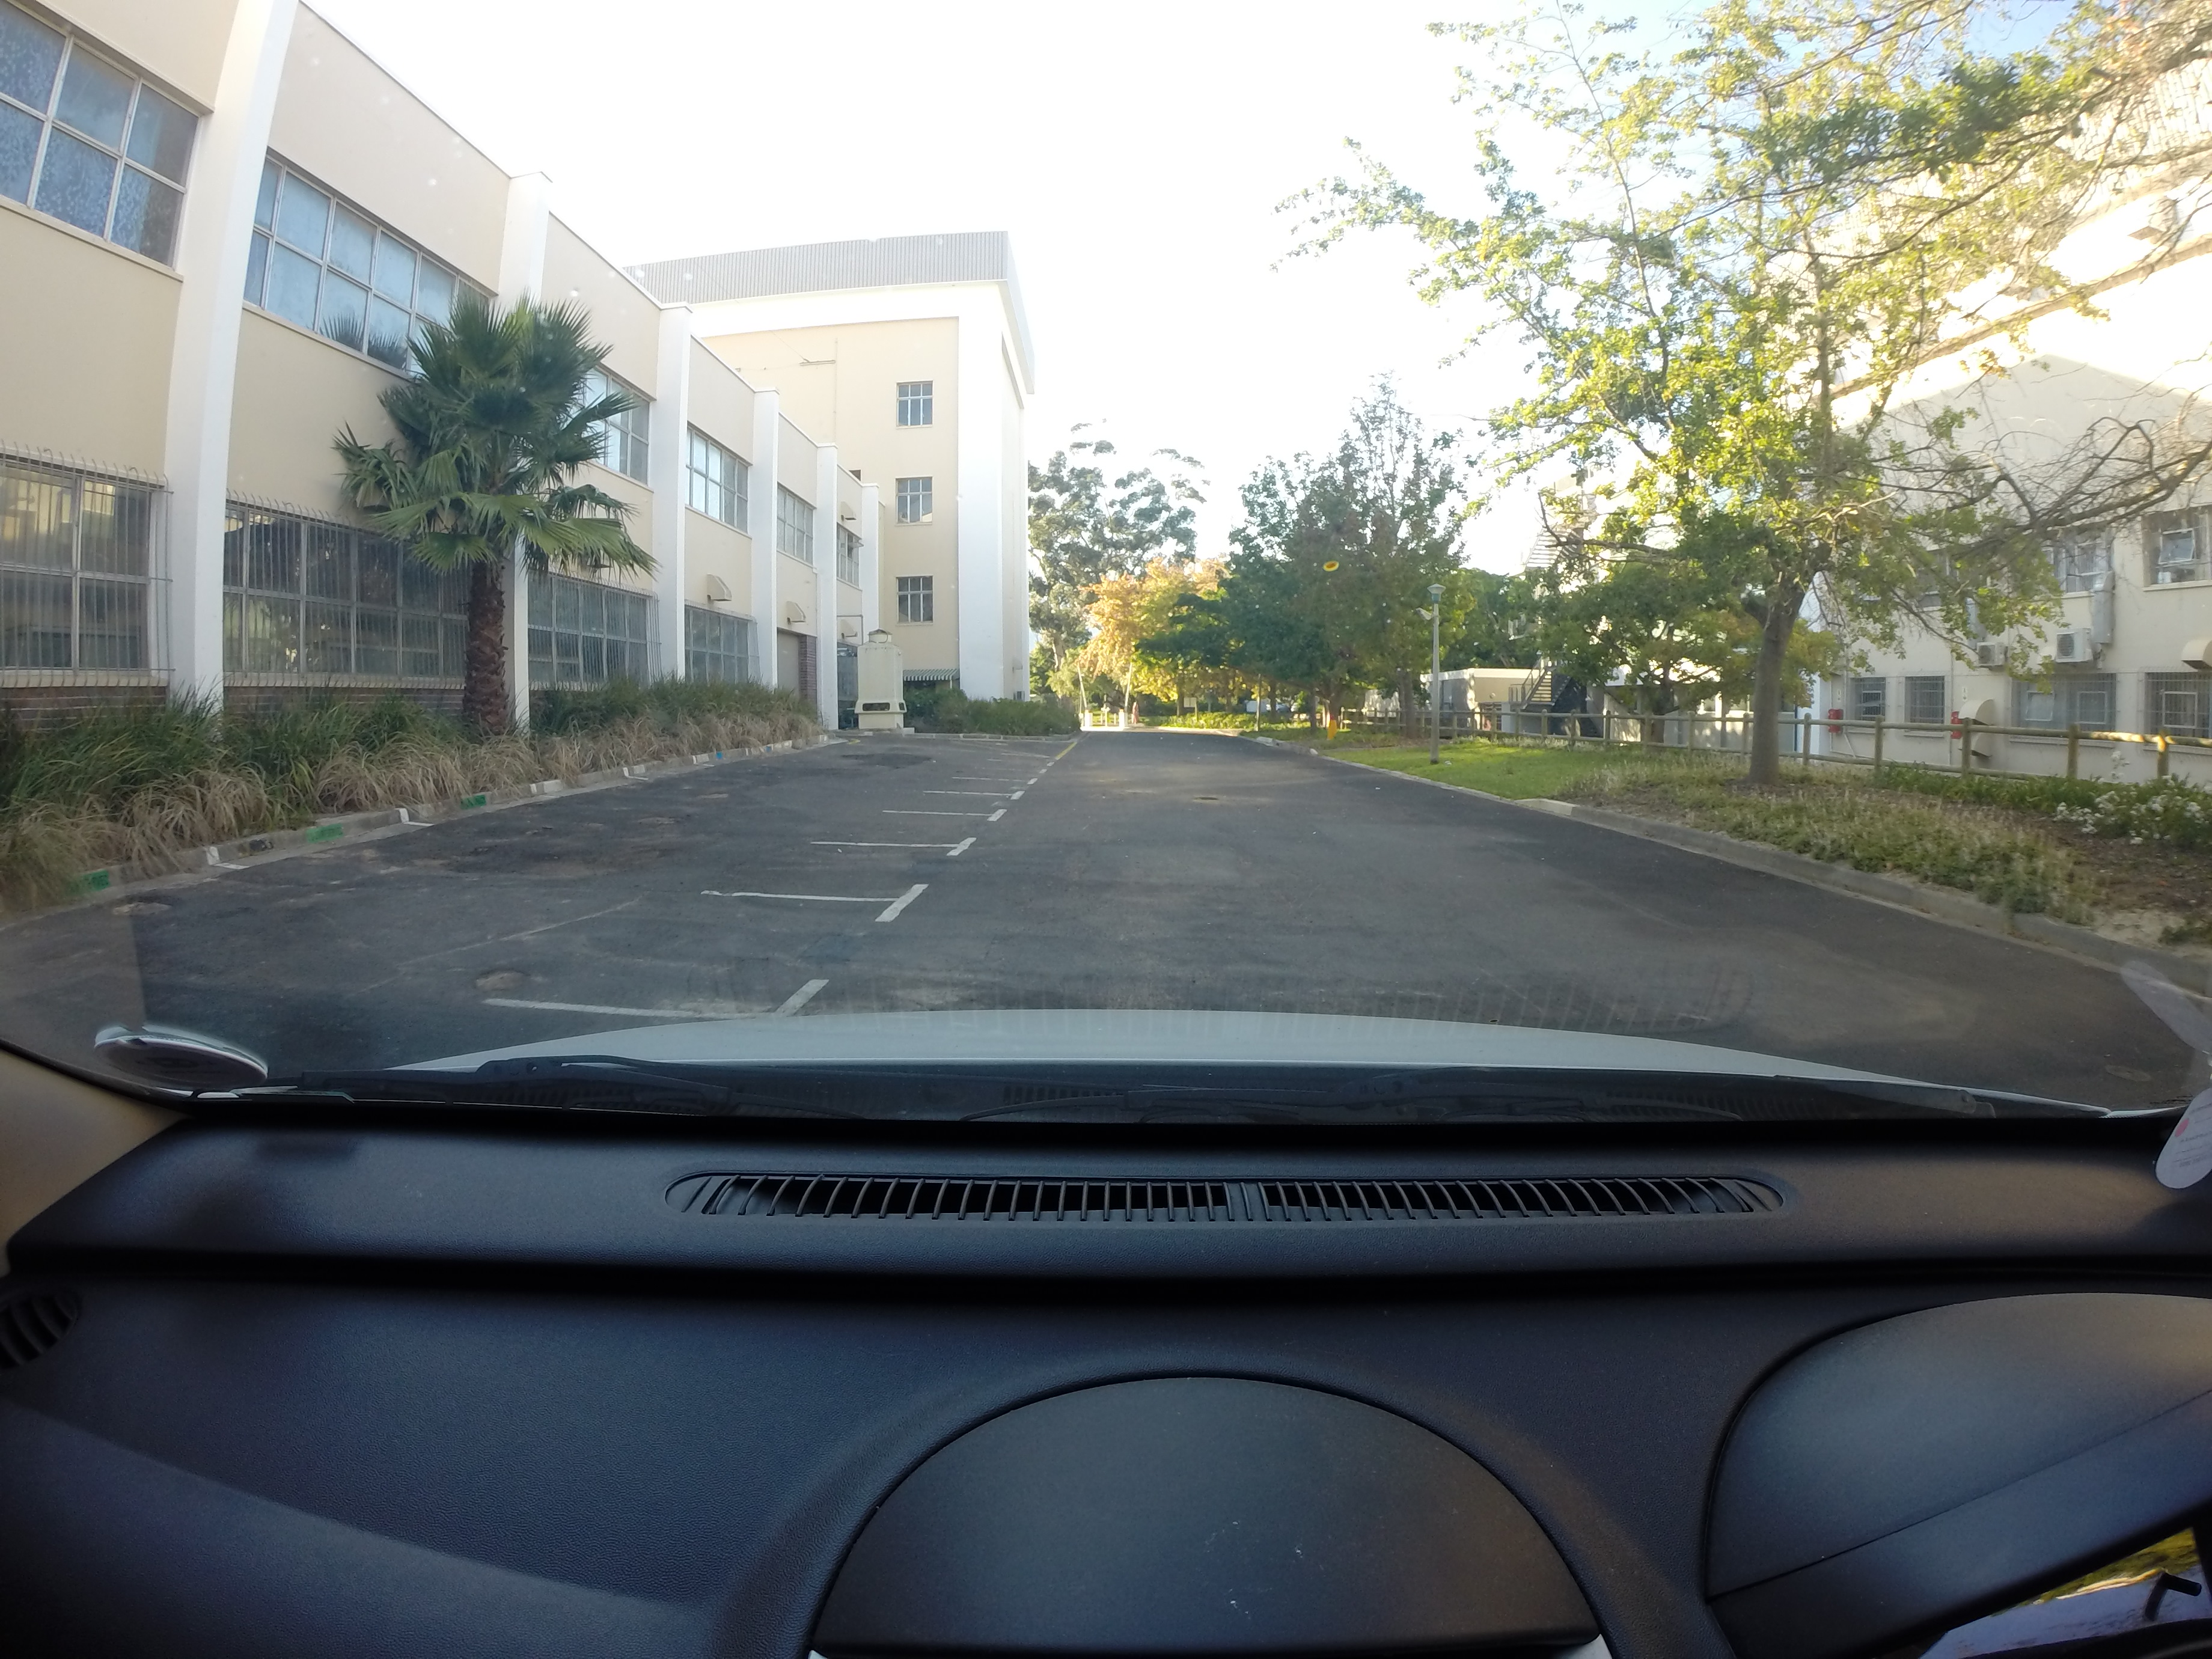pothole: (455, 955, 563, 997), (110, 892, 192, 918)
